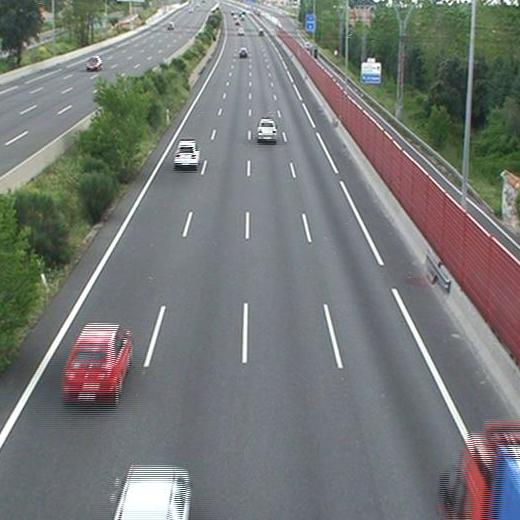car: (62, 324, 133, 402), (174, 140, 199, 166), (258, 119, 277, 141), (239, 48, 247, 58)
